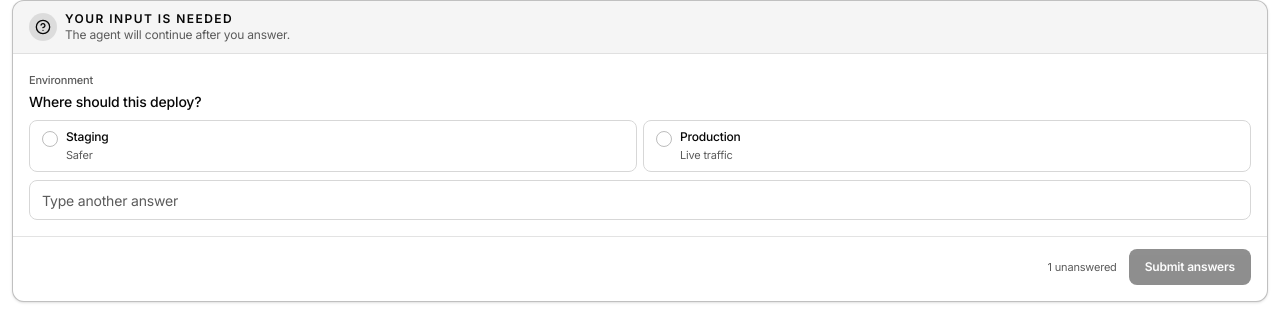
Test: AskUserQuestionCard › clears a single selection when the selected option is clicked again
This screenshot has width=1280, height=320.
Click the button with test id "question-option": (87, 136) [29,120,637,172]
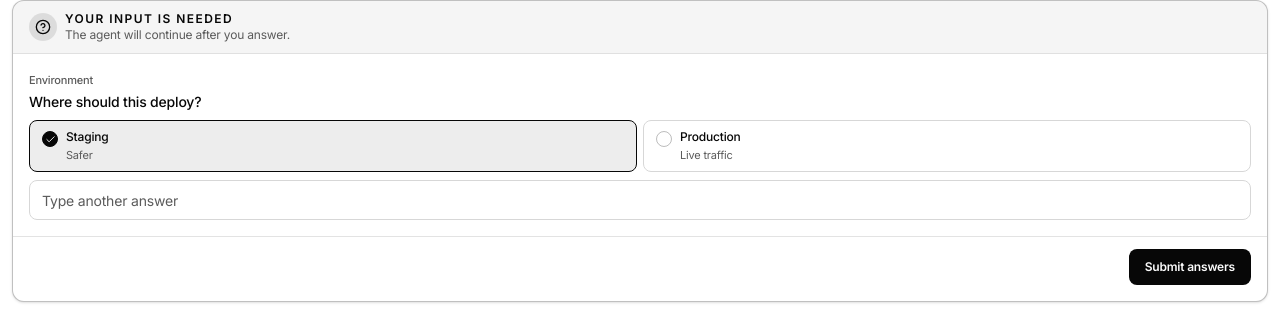
Now the submit button is enabled, box [1129,249,1251,285]
Click the button with test id "question-option": (87, 136) [29,120,637,172]
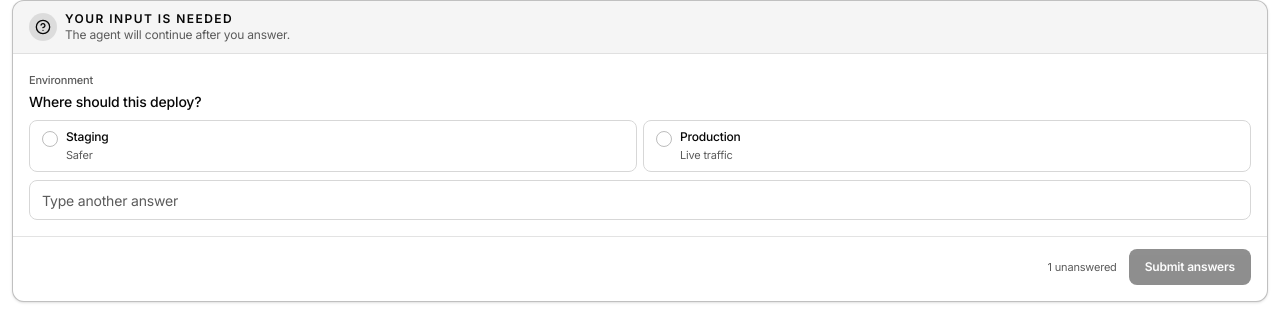
Now the submit button is disabled, box [1129,249,1251,285]
